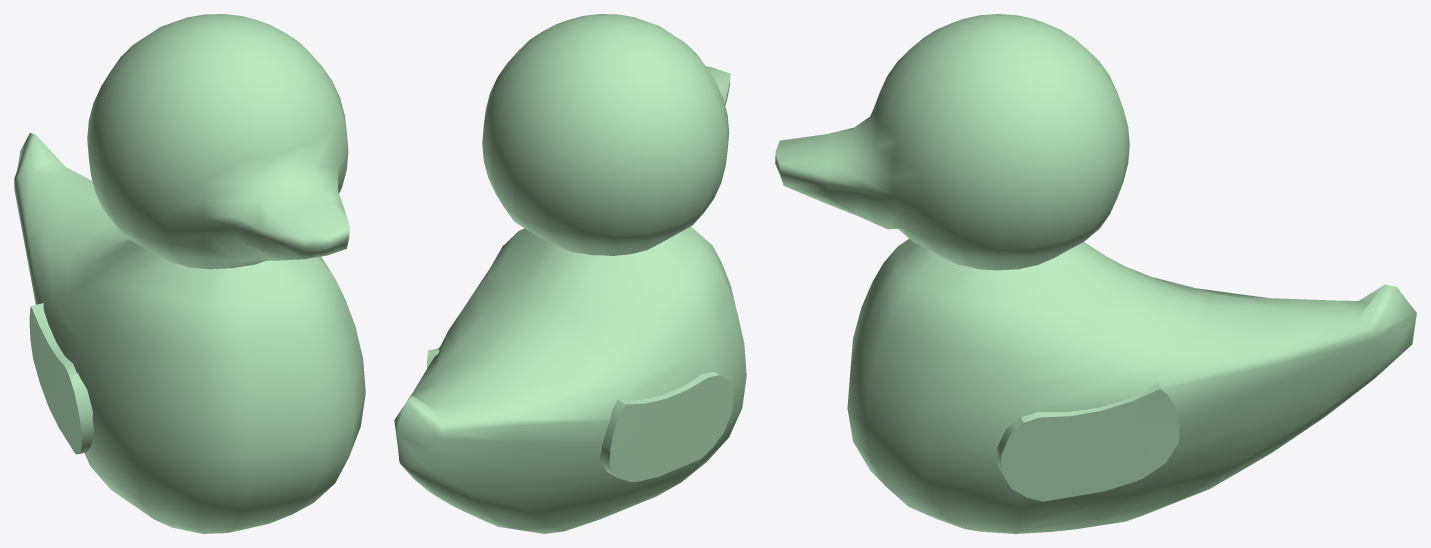
File: New_Duck.fbx
3 views of the same model, side by side, from view 1: azimuth 30°, elevation 25°; view 2: azimuth 150°, elevation 25°; view 3: azimuth 270°, elevation 25° (orthographic). The views are drawn at different scales.
Parts seen in each view (by area): view 1: duck_body, duck_head, duck_wing_1; view 2: duck_body, duck_head, duck_wing_1; view 3: duck_body, duck_head, duck_wing_2.
Boxes of the visible parts, x1,y1,x2,y2 form: duck_body: [14, 133, 365, 533]; duck_head: [87, 14, 349, 269]; duck_wing_1: [29, 303, 94, 454]; duck_body: [394, 226, 746, 533]; duck_head: [482, 14, 730, 255]; duck_wing_1: [599, 371, 733, 481]; duck_body: [847, 239, 1416, 533]; duck_head: [775, 14, 1129, 270]; duck_wing_2: [997, 382, 1179, 501].
Size of the model in its own units: 0.1209 by 0.2069 by 0.2445.
